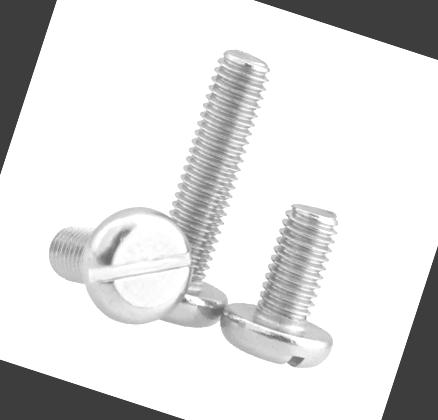slotted: (72, 191, 204, 337)
